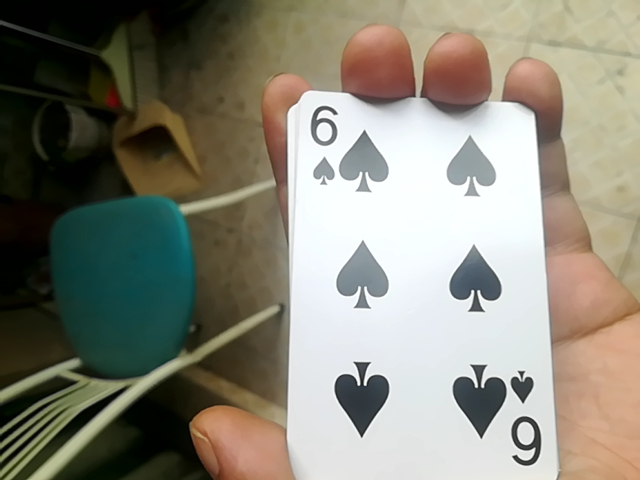ht 6: (280, 90, 554, 477)
